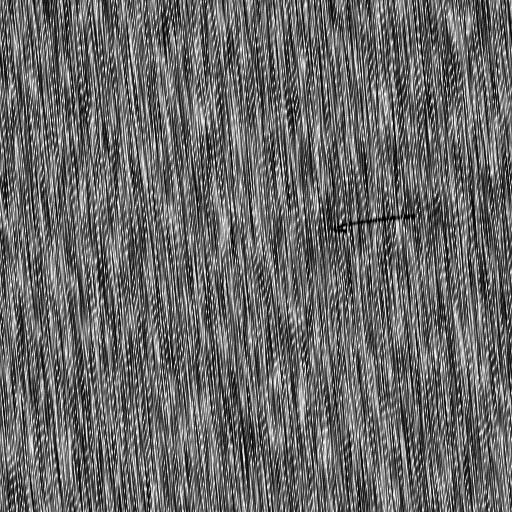DefectTypeC: (336, 213, 415, 230)
